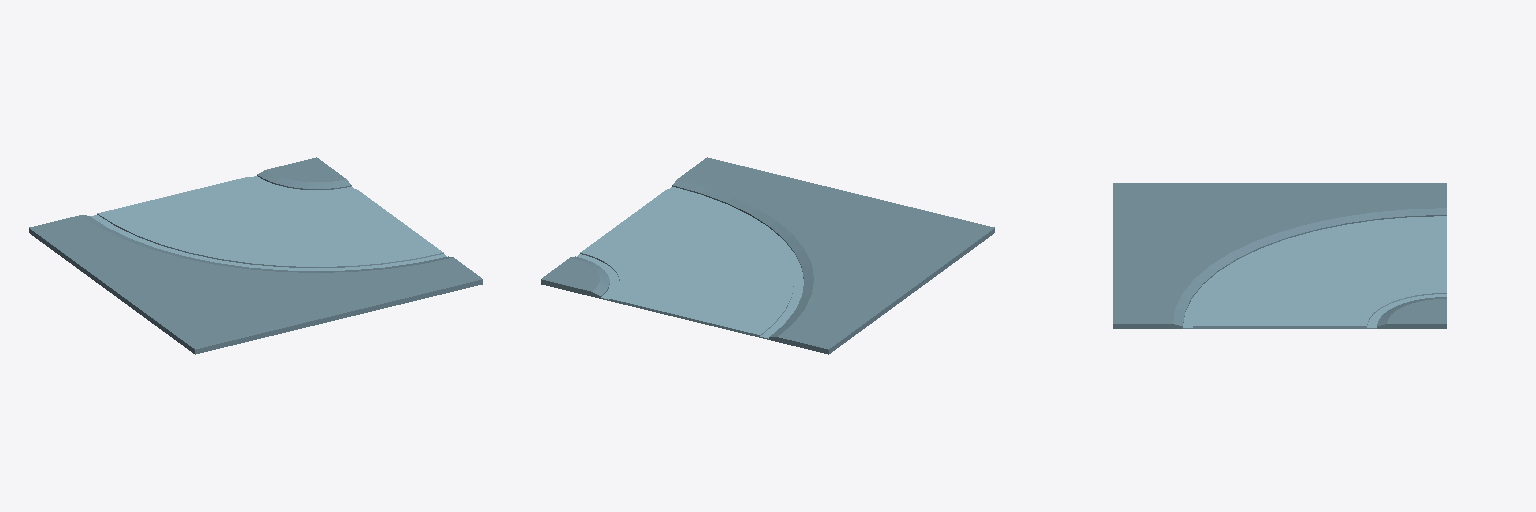
Rendered from roadBend.obj.
The picture shows the model from 3 angles: view 1: azimuth 30°, elevation 25°; view 2: azimuth 150°, elevation 25°; view 3: azimuth 270°, elevation 25°; orthographic projection.
Parts seen in each view (by area): view 1: roadBend; view 2: roadBend; view 3: roadBend.
Part boxes in pixels (bbox=[...]): roadBend: bbox=[29, 157, 482, 354]; roadBend: bbox=[541, 157, 994, 354]; roadBend: bbox=[1113, 183, 1446, 328].
Bounding box in the file's own units: 3 × 0.05 × 3.